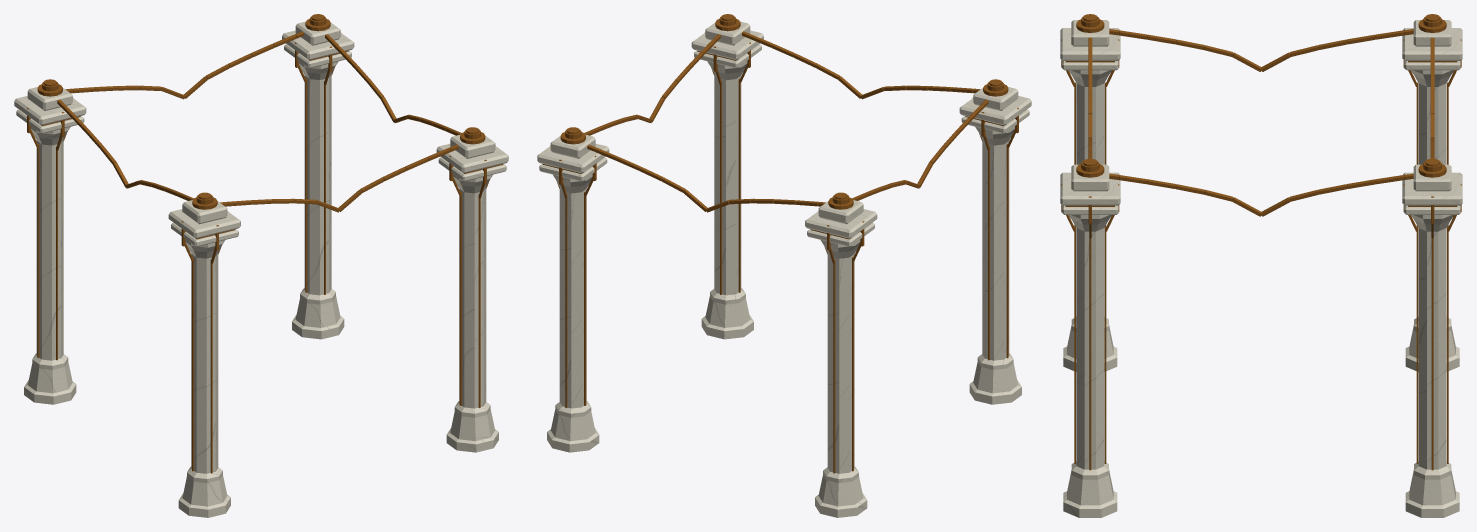
The picture shows the model from 3 angles, left to right: view 1: azimuth 30°, elevation 25°; view 2: azimuth 150°, elevation 25°; view 3: azimuth 270°, elevation 25°; orthographic projection. The views are drawn at different scales.
Parts seen in each view (by area): view 1: Layered octagonal pier shaft and spreading neck.001, Layered octagonal pier shaft and spreading neck, Layered octagonal pier shaft and spreading neck.002, Layered octagonal pier shaft and spreading neck.003, Broad upper capital bearing, Broad upper capital bearing.002, Broad upper capital bearing.001, Broad upper capital bearing.003, Socket marble pedestal, Vertical shaft facing rail.003, Vertical shaft facing rail.005, Vertical shaft facing rail.009 (+5 smaller); view 2: Layered octagonal pier shaft and spreading neck, Layered octagonal pier shaft and spreading neck.001, Layered octagonal pier shaft and spreading neck.003, Layered octagonal pier shaft and spreading neck.002, Broad upper capital bearing.001, Broad upper capital bearing.003, Broad upper capital bearing, Broad upper capital bearing.002, Socket marble pedestal.001, Vertical shaft facing rail.001, Vertical shaft facing rail.006, Vertical shaft facing rail.013 (+5 smaller); view 3: Layered octagonal pier shaft and spreading neck.002, Layered octagonal pier shaft and spreading neck.003, Layered octagonal pier shaft and spreading neck, Layered octagonal pier shaft and spreading neck.001, Broad upper capital bearing.002, Broad upper capital bearing.003, Broad upper capital bearing, Broad upper capital bearing.001, Socket marble pedestal.002, Socket marble pedestal.003, Socket marble pedestal, Socket marble pedestal.001 (+8 smaller).
Part boxes in pixels (box(x1,y1,x2,y2)): Layered octagonal pier shaft and spreading neck.001: box(24, 126, 76, 404); Layered octagonal pier shaft and spreading neck: box(178, 239, 230, 517); Layered octagonal pier shaft and spreading neck.002: box(446, 174, 498, 452); Layered octagonal pier shaft and spreading neck.003: box(292, 61, 344, 339); Broad upper capital bearing: box(168, 209, 240, 238); Broad upper capital bearing.002: box(436, 143, 508, 173); Broad upper capital bearing.001: box(14, 96, 86, 125); Broad upper capital bearing.003: box(282, 30, 354, 60); Socket marble pedestal: box(182, 200, 227, 224); Vertical shaft facing rail.003: box(210, 259, 212, 473); Vertical shaft facing rail.005: box(37, 144, 39, 358); Vertical shaft facing rail.009: box(459, 192, 461, 405); Layered octagonal pier shaft and spreading neck: box(969, 126, 1021, 404); Layered octagonal pier shaft and spreading neck.001: box(815, 239, 867, 517); Layered octagonal pier shaft and spreading neck.003: box(547, 174, 599, 452); Layered octagonal pier shaft and spreading neck.002: box(701, 61, 753, 339); Broad upper capital bearing.001: box(805, 209, 877, 238); Broad upper capital bearing.003: box(537, 143, 609, 173); Broad upper capital bearing: box(959, 96, 1031, 125); Broad upper capital bearing.002: box(691, 30, 763, 60); Socket marble pedestal.001: box(818, 200, 863, 224); Vertical shaft facing rail.001: box(1006, 144, 1008, 358); Vertical shaft facing rail.006: box(833, 259, 835, 473); Vertical shaft facing rail.013: box(584, 192, 586, 405); Layered octagonal pier shaft and spreading neck.002: box(1063, 215, 1117, 517); Layered octagonal pier shaft and spreading neck.003: box(1405, 215, 1459, 517); Layered octagonal pier shaft and spreading neck: box(1063, 70, 1117, 371); Layered octagonal pier shaft and spreading neck.001: box(1405, 70, 1459, 371); Broad upper capital bearing.002: box(1060, 172, 1120, 205); Broad upper capital bearing.003: box(1402, 172, 1462, 205); Broad upper capital bearing: box(1060, 28, 1120, 60); Broad upper capital bearing.001: box(1402, 28, 1462, 60); Socket marble pedestal.002: box(1071, 164, 1109, 191); Socket marble pedestal.003: box(1413, 164, 1451, 191); Socket marble pedestal: box(1071, 20, 1109, 46); Socket marble pedestal.001: box(1413, 20, 1451, 46).
Size of the model in its own units: 4 by 3.78 by 4.
Materials: 3 (3 with a texture image).
